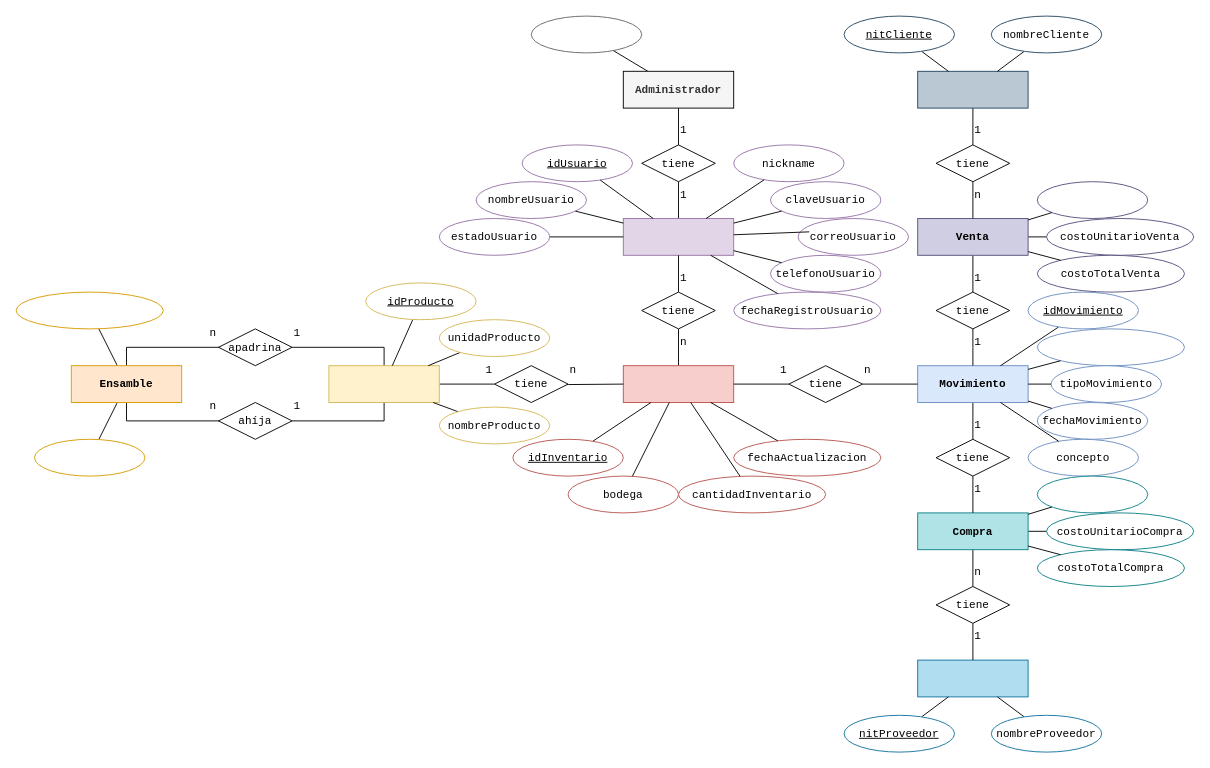
This 1210x768 diagram has some shape labels left out. The centre of each missing label's shape, as x and y in pixels:
cantidadNetaMovimiento: point 1110,347
Cliente: point 972,89
idAdministrador: point 586,34
idCompra: point 1092,494
idEnsamble: point 89,457
idVenta: point 1092,199
Inventario: point 678,383
Producto: point 383,383
Proveedor: point 972,678
razonHijosPorPadre: point 89,310
Usuario: point 678,236
